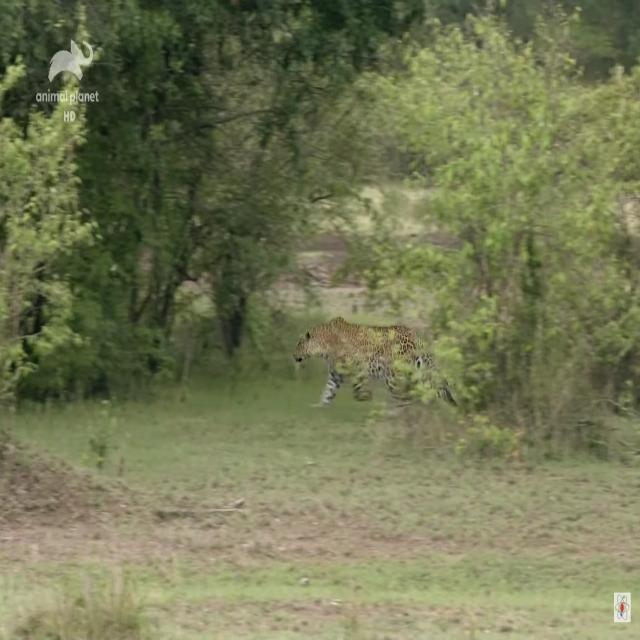Jaguar: (286, 307, 424, 417)
